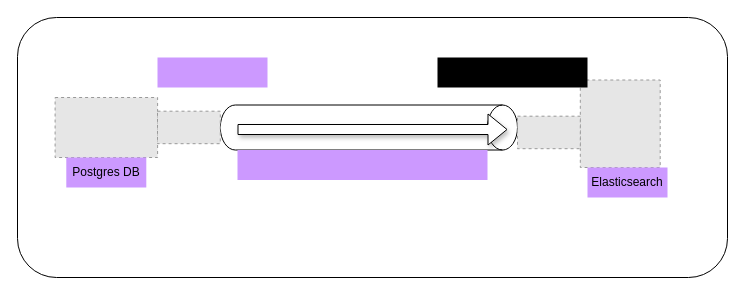
Image size: 745x295. Some labels were removed from this diagram. Grey dashed boxes stand in for pictures. Here are the shapes that lost their labels. From the top down, the centre of each, then its label:
the point at 212,72: PostgresConnector
the point at 362,165: Kafka Tunnel (JSON)
